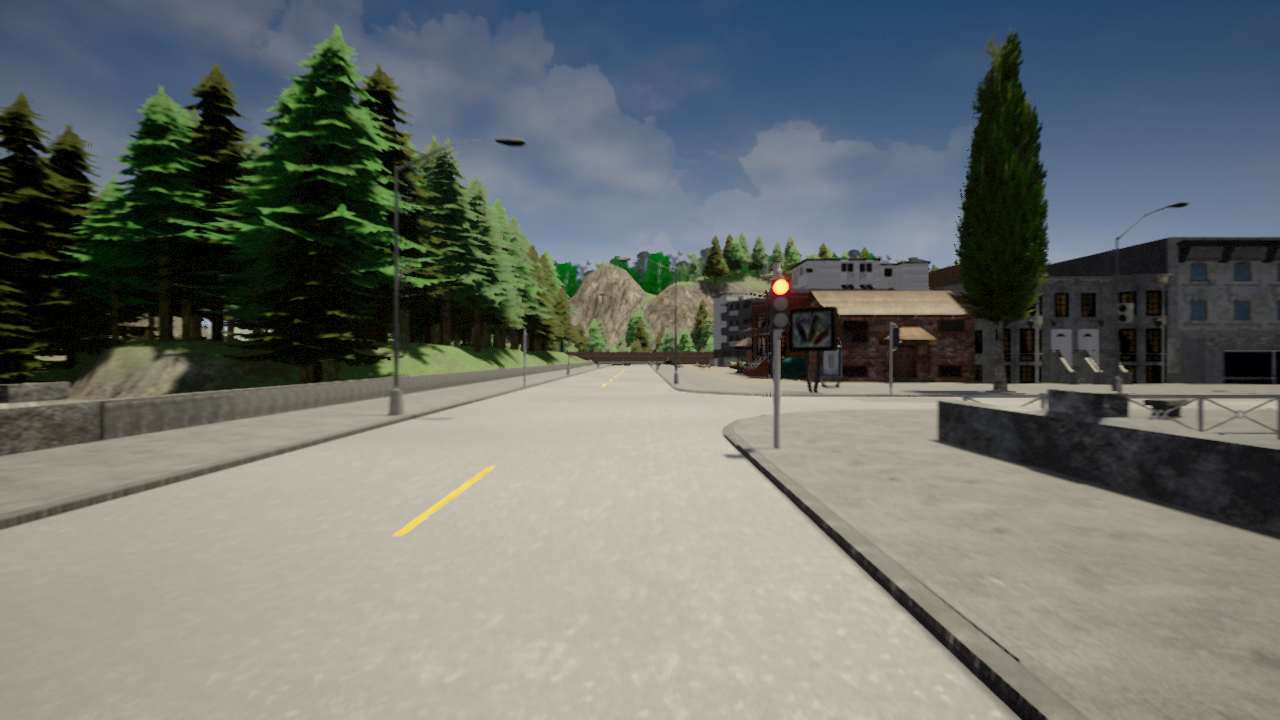red: (768, 277, 790, 330)
